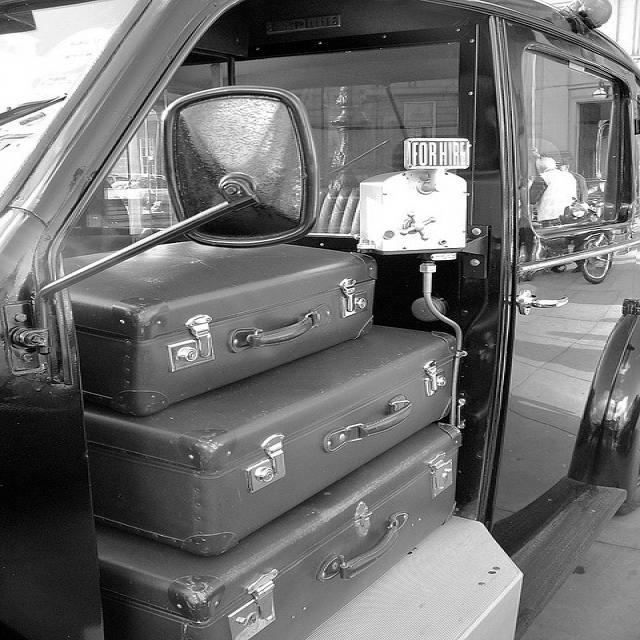car: (2, 0, 638, 631)
truck: (0, 0, 639, 628)
